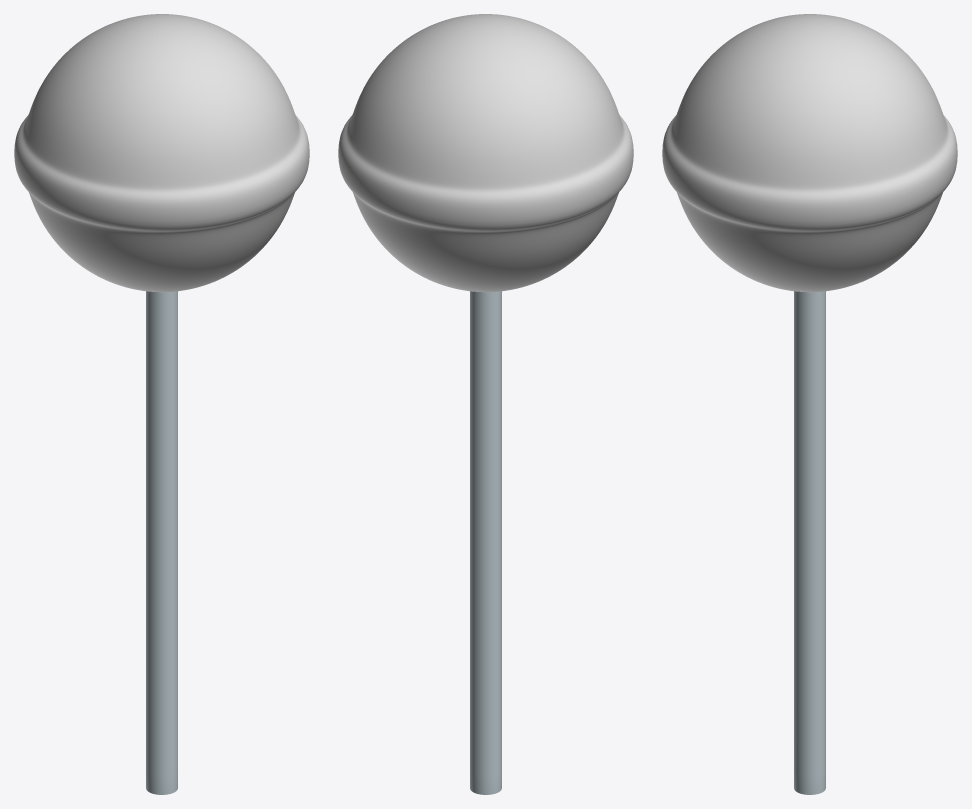
The model's file is candyshaderv2.fbx.
3 views of the same model, side by side, from view 1: azimuth 30°, elevation 25°; view 2: azimuth 150°, elevation 25°; view 3: azimuth 270°, elevation 25° (orthographic).
Parts seen in each view (by area): view 1: candy, a; view 2: candy, a; view 3: candy, a.
Boxes of the visible parts, bbox=[...] form: candy: bbox=[14, 14, 309, 292]; a: bbox=[146, 291, 177, 794]; candy: bbox=[338, 14, 633, 292]; a: bbox=[470, 291, 501, 794]; candy: bbox=[662, 14, 957, 292]; a: bbox=[794, 291, 825, 794].
Bounding box in the file's own units: 169 × 480 × 169.
